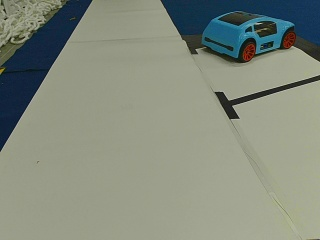car: (202, 11, 296, 62)
